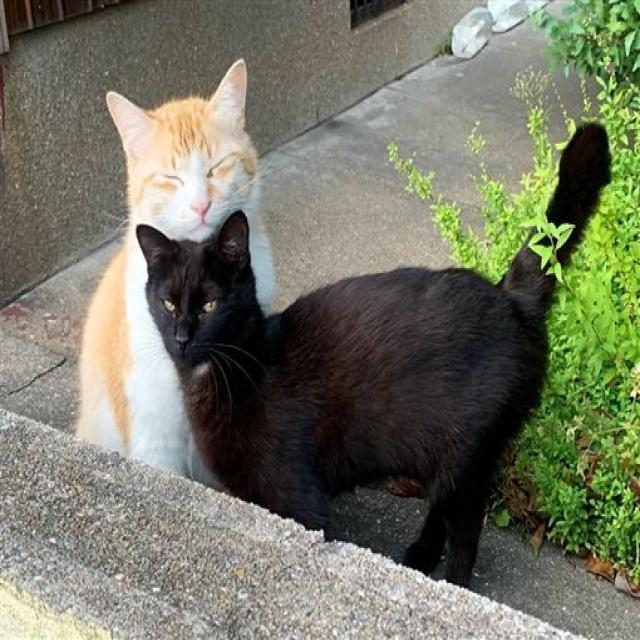black cat: (134, 116, 621, 598)
